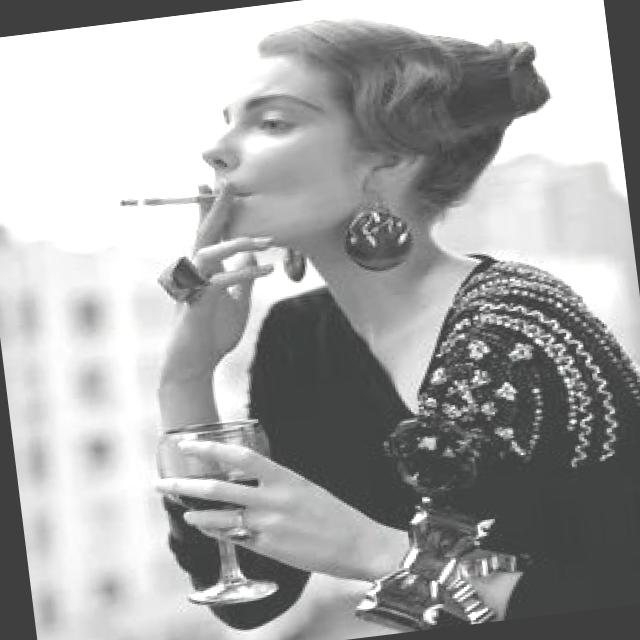smoke: (105, 182, 232, 223)
